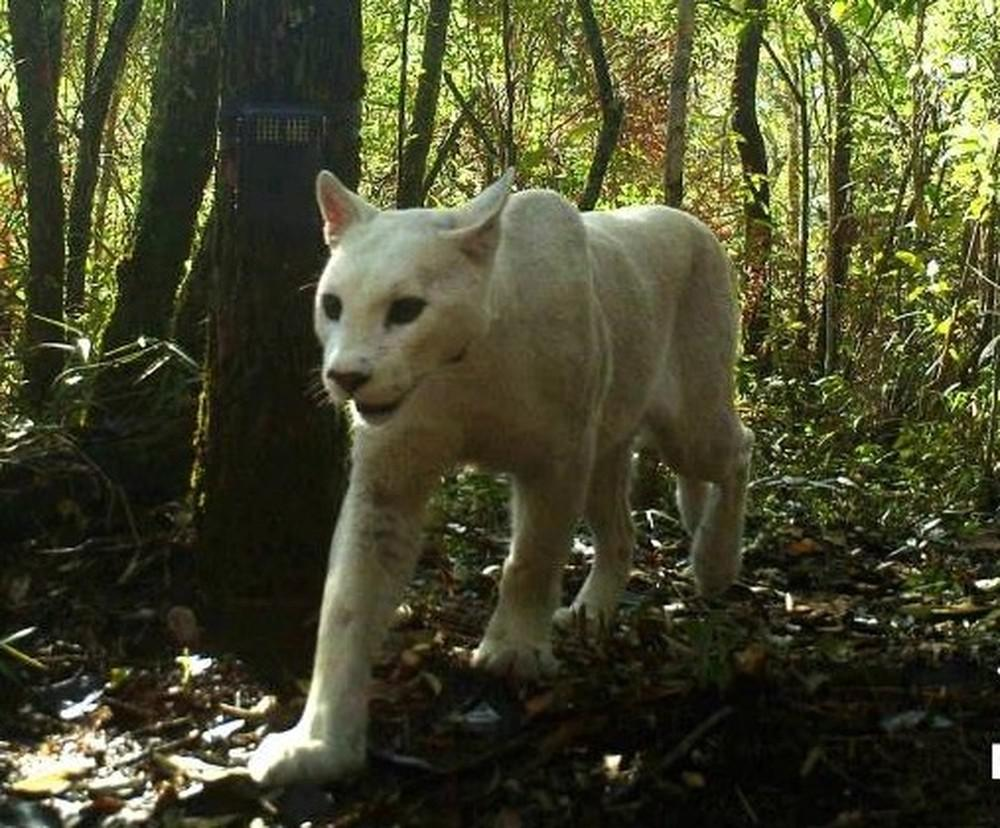OncaParda: (240, 163, 758, 795)
